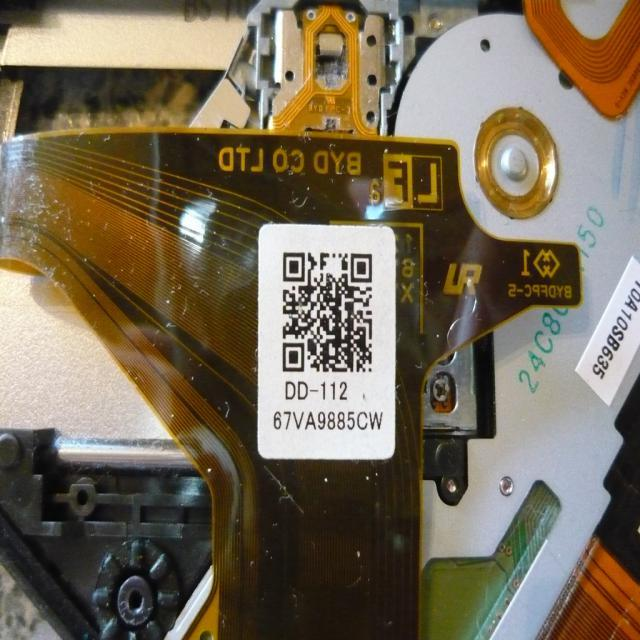qrcode: (284, 254, 373, 373)
